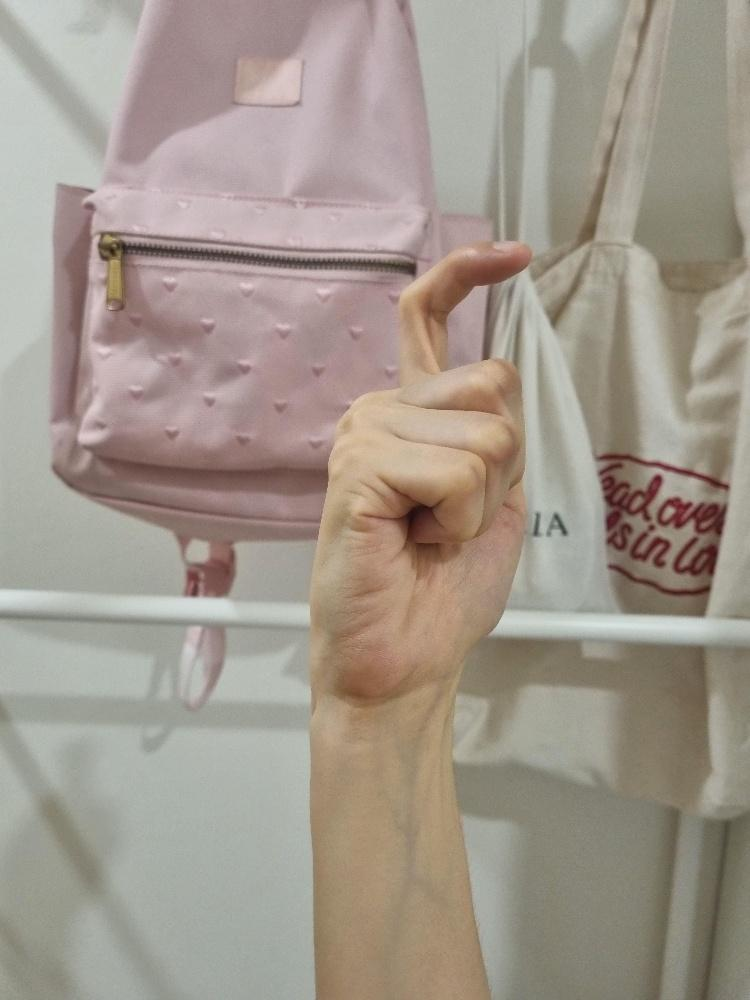x: (308, 239, 534, 703)
